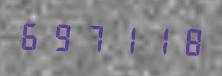eight: (173, 22, 203, 59)
nine: (48, 17, 78, 54)
one: (111, 20, 141, 57), (142, 21, 172, 58)
seven: (80, 18, 110, 55)
six: (17, 16, 47, 53)
